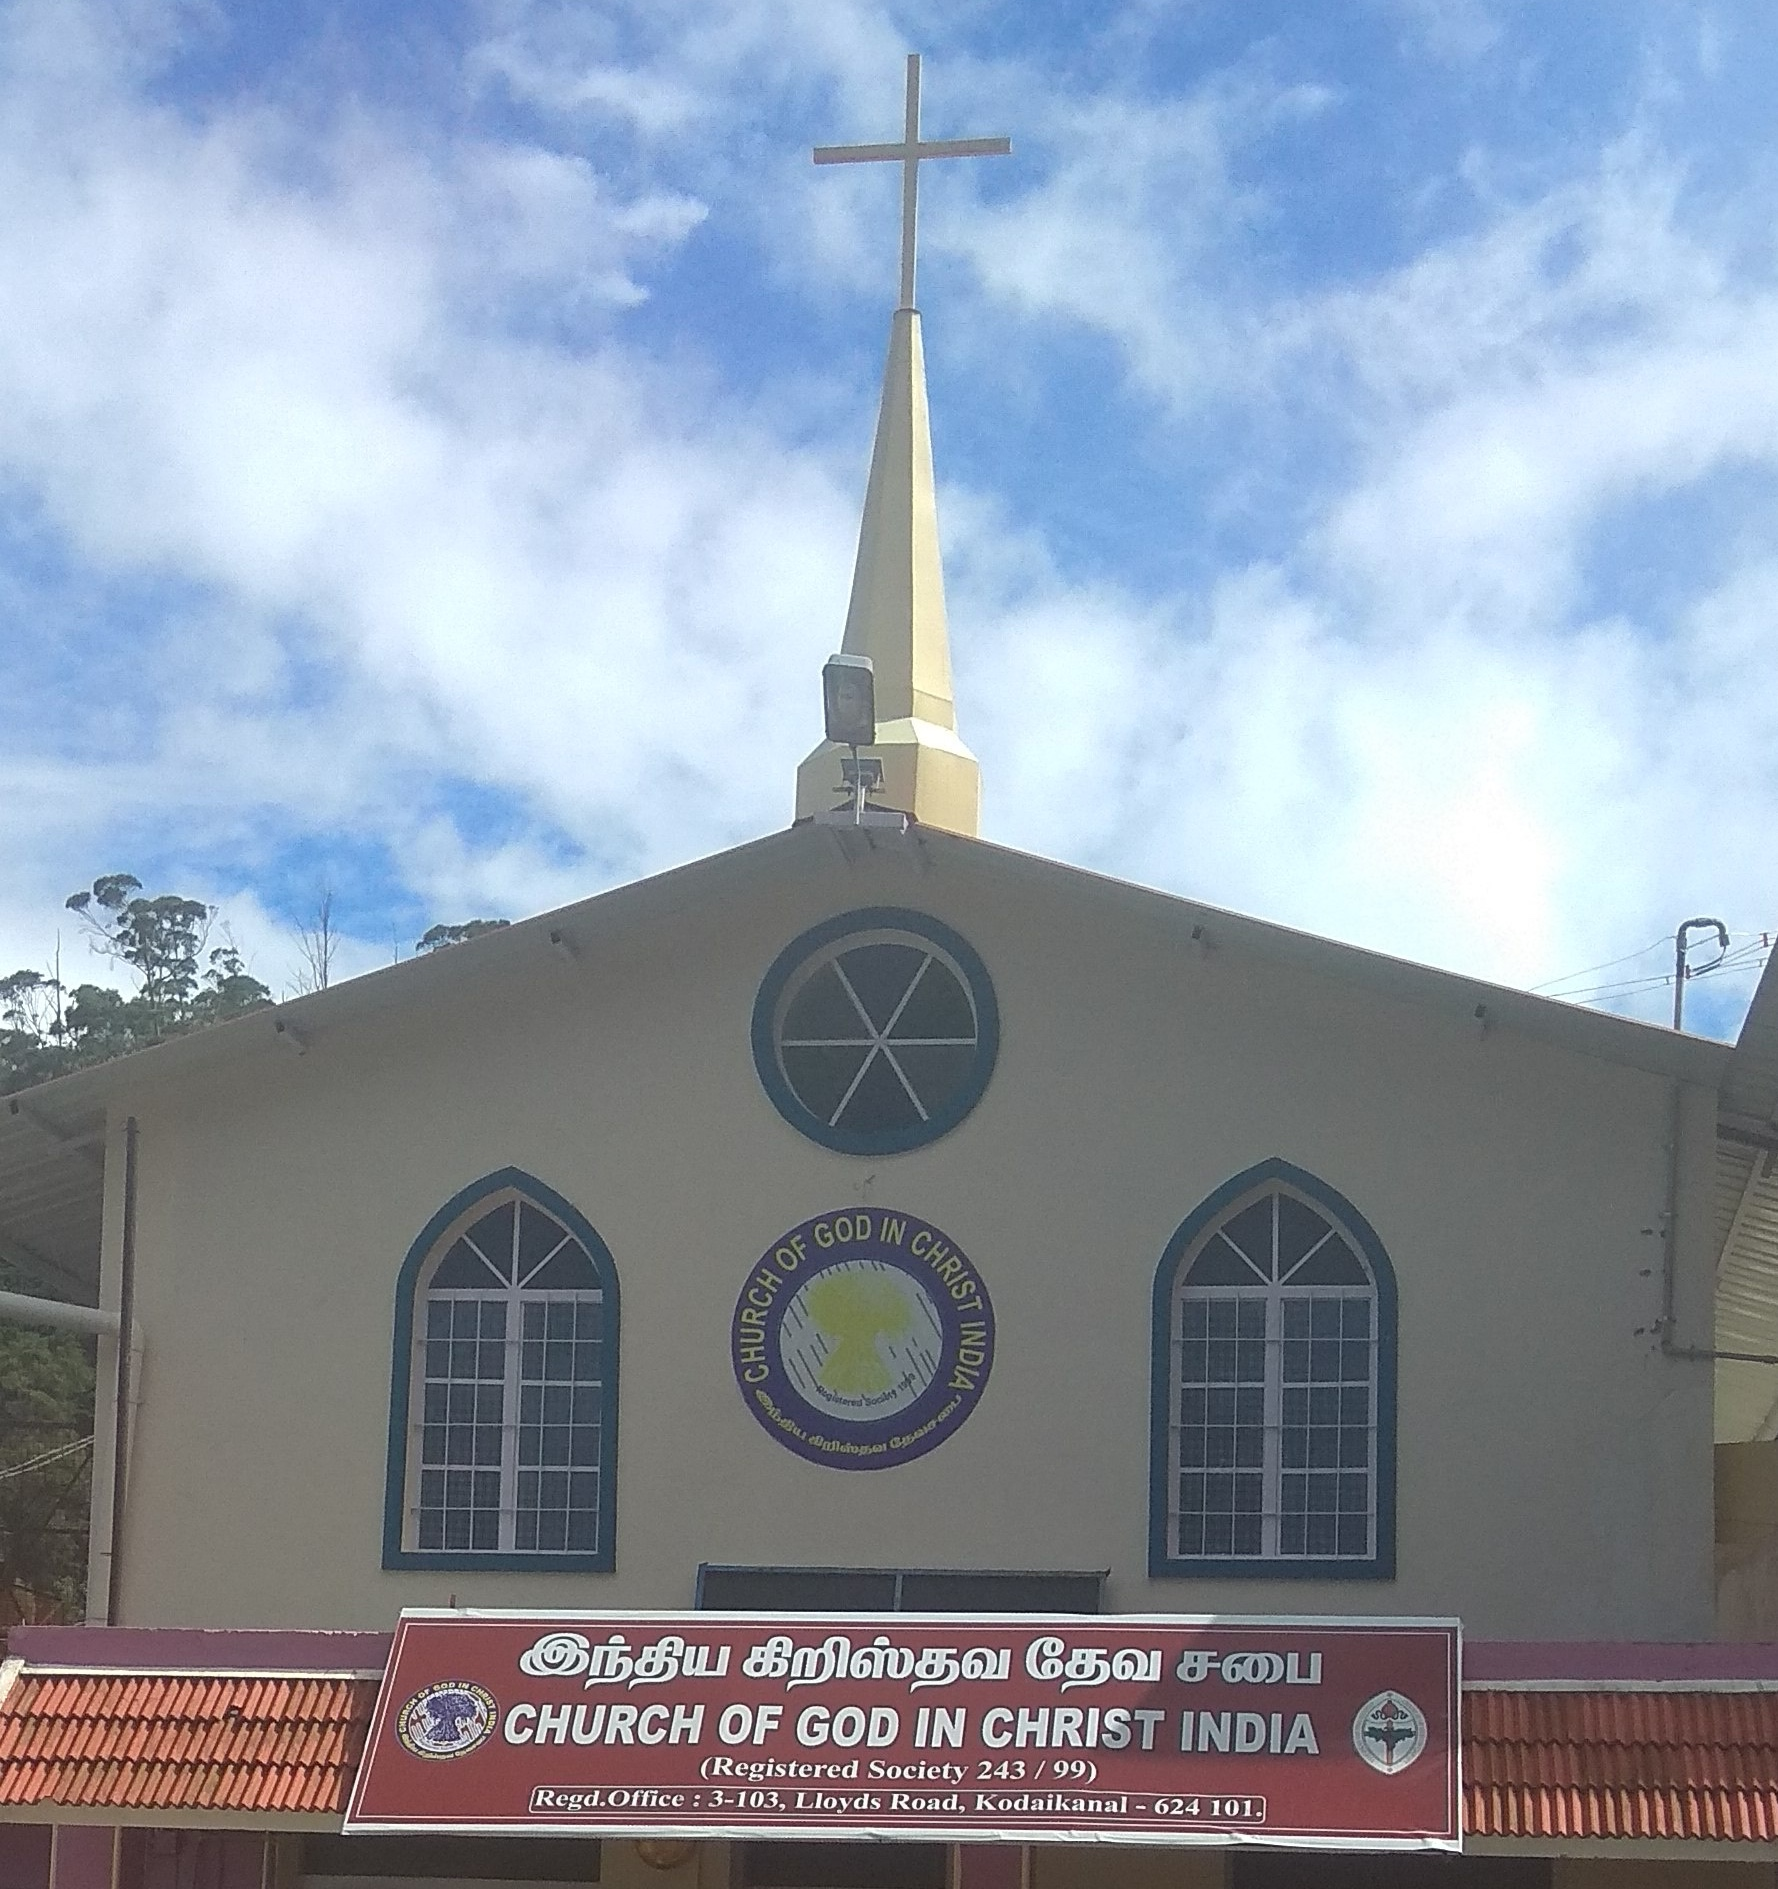Church: (77, 25, 1714, 1713)
